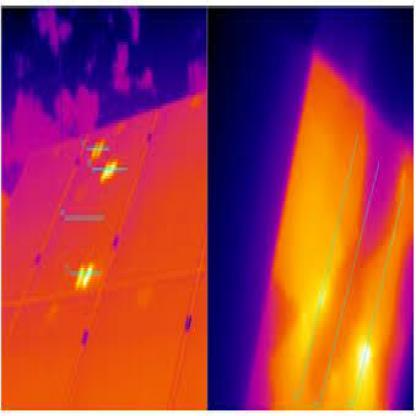Defects: (360, 335, 374, 391), (74, 254, 94, 288), (105, 156, 118, 190)
